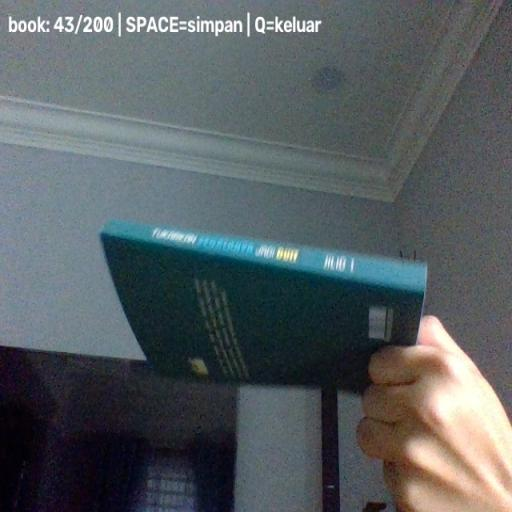Book: (99, 219, 430, 390)
